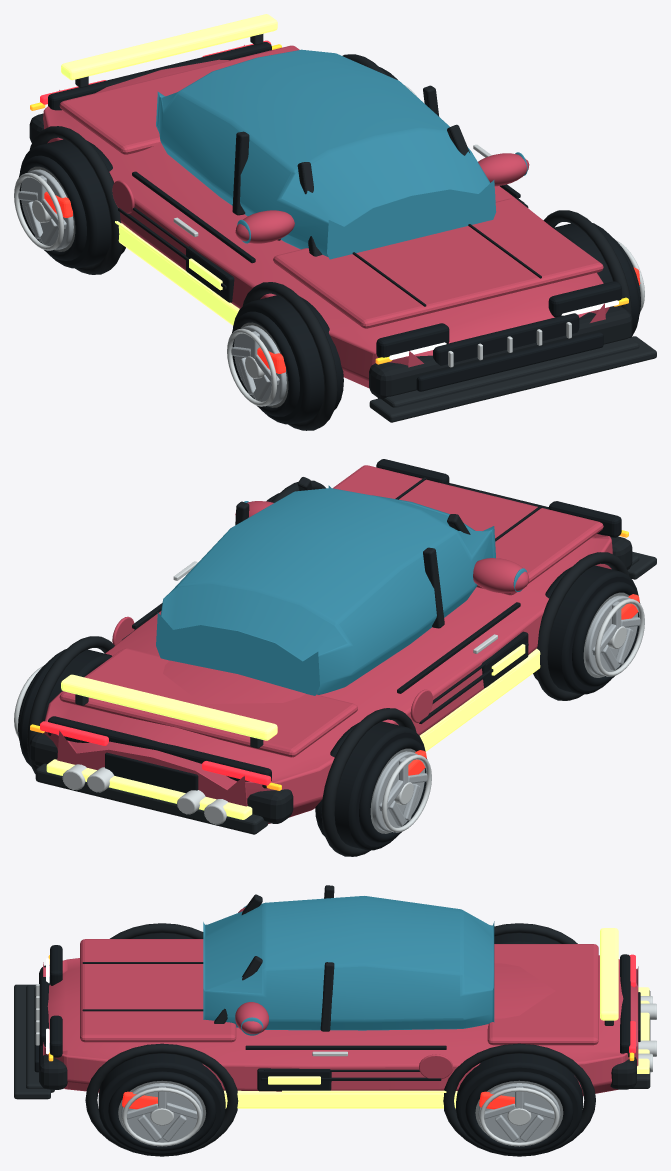
Rendered from supercar.glb.
The picture shows the model from 3 angles, top to bottom: view 1: azimuth 30°, elevation 25°; view 2: azimuth 150°, elevation 25°; view 3: azimuth 270°, elevation 25°; orthographic projection. The views are drawn at different scales.
Visible parts, largest first — view 1: continuous smoked glass cabin.002, sculpted one-piece body shell.002, front hood skin.002, rear deck skin.002, left wheel tire.004, carbon front splitter extension, rear spoiler blade.002, left wheel tire.005, front bumper fascia.002, lower front intake surround.002, front carbon splitter.002, left front fender arch bead.002 (+19 smaller); view 2: continuous smoked glass cabin.002, sculpted one-piece body shell.002, front hood skin.002, rear deck skin.002, left wheel tire.005, rear spoiler blade.002, left wheel tire.004, left rear fender arch bead.002, left front fender arch bead.002, rear diffuser center.002, rear tail light dark housing.002, left aerodynamic side sill.002 (+19 smaller); view 3: continuous smoked glass cabin.002, sculpted one-piece body shell.002, front hood skin.002, rear deck skin.002, right wheel tire.004, right wheel tire.005, right aerodynamic side sill.002, right front fender arch bead.002, right rear fender arch bead.002, right tire sidewall bead.004, right tire sidewall bead.005, rear spoiler blade.002 (+26 smaller).
Boxes of the visible parts, x1,y1,x2,y2 form: continuous smoked glass cabin.002: (156, 49, 496, 259); sculpted one-piece body shell.002: (43, 45, 609, 388); front hood skin.002: (273, 198, 603, 328); rear deck skin.002: (59, 45, 299, 154); left wheel tire.004: (233, 295, 343, 424); carbon front splitter extension: (369, 336, 656, 422); rear spoiler blade.002: (61, 14, 277, 80); left wheel tire.005: (20, 139, 125, 268); front bumper fascia.002: (369, 306, 632, 399); lower front intake surround.002: (416, 332, 603, 391); front carbon splitter.002: (378, 338, 639, 407); left front fender arch bead.002: (242, 282, 337, 430); continuous smoked glass cabin.002: (156, 485, 495, 695); sculpted one-piece body shell.002: (43, 534, 612, 823); front hood skin.002: (333, 465, 603, 595); rear deck skin.002: (59, 648, 357, 757); left wheel tire.005: (315, 721, 425, 850); rear spoiler blade.002: (61, 674, 277, 740); left wheel tire.004: (533, 565, 638, 694); left rear fender arch bead.002: (321, 708, 416, 856); left front fender arch bead.002: (536, 552, 629, 700); rear diffuser center.002: (35, 763, 268, 834); rear tail light dark housing.002: (48, 716, 271, 788); left aerodynamic side sill.002: (419, 648, 540, 751); continuous smoked glass cabin.002: (203, 896, 494, 1030); sculpted one-piece body shell.002: (43, 955, 638, 1095); front hood skin.002: (80, 939, 236, 1042); rear deck skin.002: (487, 944, 598, 1045); right wheel tire.004: (98, 1053, 225, 1155); right wheel tire.005: (456, 1053, 582, 1155); right aerodynamic side sill.002: (224, 1090, 457, 1108); right front fender arch bead.002: (85, 1043, 238, 1156); right rear fender arch bead.002: (443, 1043, 595, 1156); right tire sidewall bead.004: (108, 1071, 216, 1151); right tire sidewall bead.005: (465, 1071, 573, 1151); rear spoiler blade.002: (600, 928, 618, 1020).
Bounding box in the file's own units: 2.78 × 1.52 × 4.96.
